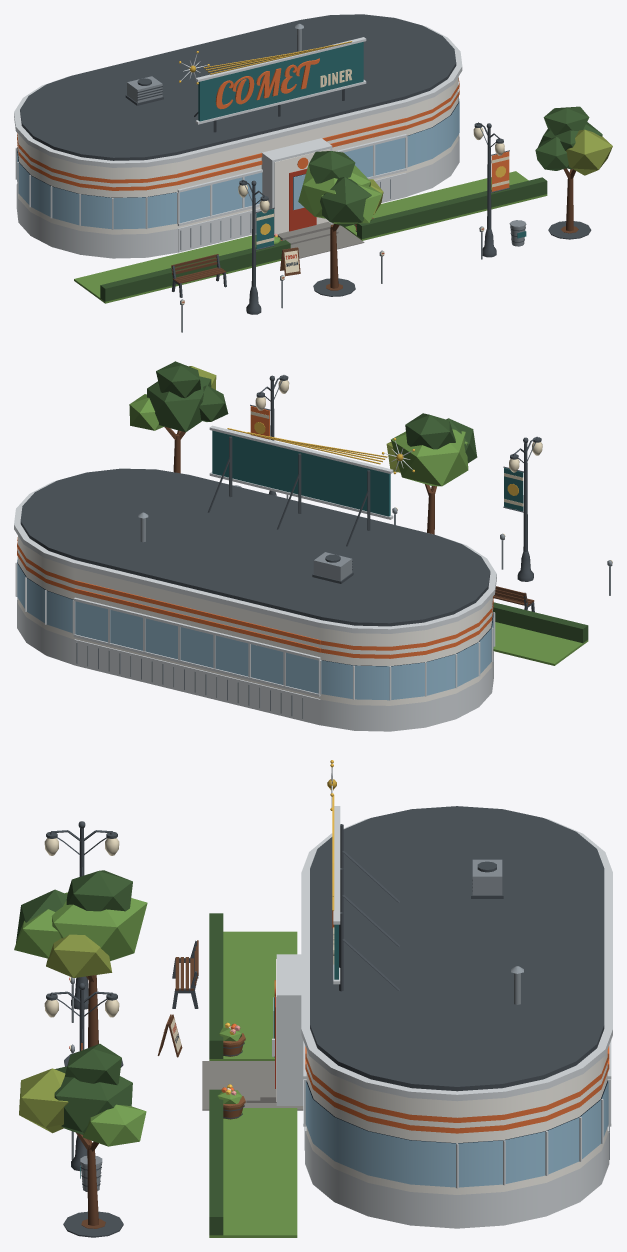
The model's file is Lobby_BlockDiner.fbx.
3 views of the same model, one above another, from view 1: azimuth 30°, elevation 25°; view 2: azimuth 150°, elevation 25°; view 3: azimuth 270°, elevation 25° (orthographic). The views are drawn at different scales.
Visible parts, largest first — view 1: Decor, DecorGlassSkyblue, DecorGlassSkyblue_, DecorNeonSignal, DecorNeonCream, DecorNeonHazard; view 2: Decor, DecorGlassSkyblue_, DecorGlassSkyblue, DecorNeonHazard, DecorNeonCream; view 3: Decor, DecorGlassSkyblue, DecorNeonCream.
Boxes of the visible parts, <box> form: Decor: <box>14,14,612,332</box>; DecorGlassSkyblue: <box>17,96,459,229</box>; DecorGlassSkyblue_: <box>179,137,405,223</box>; DecorNeonSignal: <box>215,58,319,168</box>; DecorNeonCream: <box>238,69,504,213</box>; DecorNeonHazard: <box>179,41,352,84</box>; Decor: <box>14,361,612,731</box>; DecorGlassSkyblue_: <box>75,601,318,693</box>; DecorGlassSkyblue: <box>17,557,493,700</box>; DecorNeonHazard: <box>227,428,414,474</box>; DecorNeonCream: <box>255,380,542,472</box>; Decor: <box>14,763,612,1237</box>; DecorGlassSkyblue: <box>273,997,608,1187</box>; DecorNeonCream: <box>44,838,334,1017</box>.
Size of the model in its own units: 64.25 by 25.17 by 51.72.
